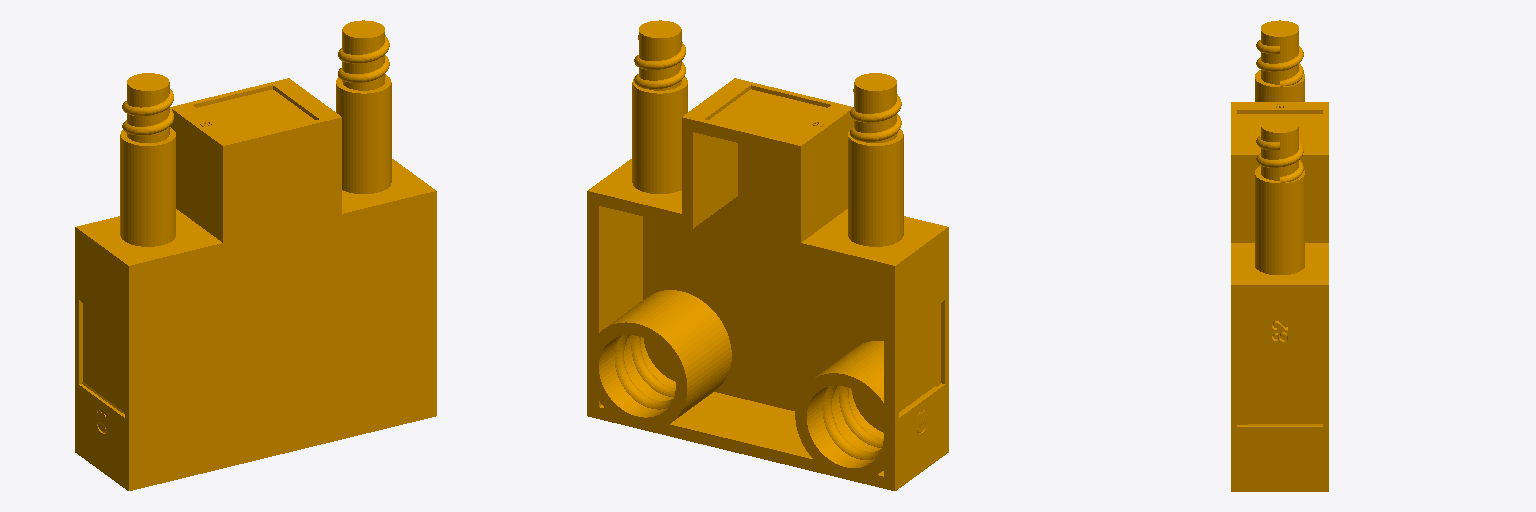
The robot description file, URDF, robot "chair_seat":
<?xml version="1.0"?>
<robot name="chair_seat">
    <link name="chair_seat">
        <visual>
            <geometry>
                <mesh filename="../../mesh/chair/chair_seat.obj" scale="1 1 1"/>
            </geometry>
        </visual>
        <collision>
            <geometry>
                <mesh filename="../../mesh/chair/chair_seat.obj" scale="1 1 1"/>
            </geometry>
            <sdf resolution="512"/>
        </collision>
        <!-- <inertial>
            <mass value="1."/>
            <inertia ixx="0.0001" ixy="0.0" ixz="0.0" iyy="0.0001" iyz="0.0" izz="0.0001"/>
        </inertial> -->
    </link>
</robot>

--- Facts derived from the render (not from the file) ---
3 views of the same robot in one strip: view 1: azimuth 30°, elevation 25°; view 2: azimuth 150°, elevation 25°; view 3: azimuth 270°, elevation 25° (orthographic).
Robot: chair_seat — 1 links, 0 joints (none); root link chair_seat; default pose: all joints at 0.
Links seen in each view (by area): view 1: chair_seat; view 2: chair_seat; view 3: chair_seat.
Boxes of the visible links, box(x1,y1,x2,y2) form: chair_seat: box(75, 20, 436, 490); chair_seat: box(587, 20, 948, 490); chair_seat: box(1231, 20, 1328, 491).
Bounding box of the posed robot: 0.1 × 0.03 × 0.1175 m (x, y, z).
Meshes: 1 distinct files referenced, 1 mesh visuals loaded (1 OBJ).